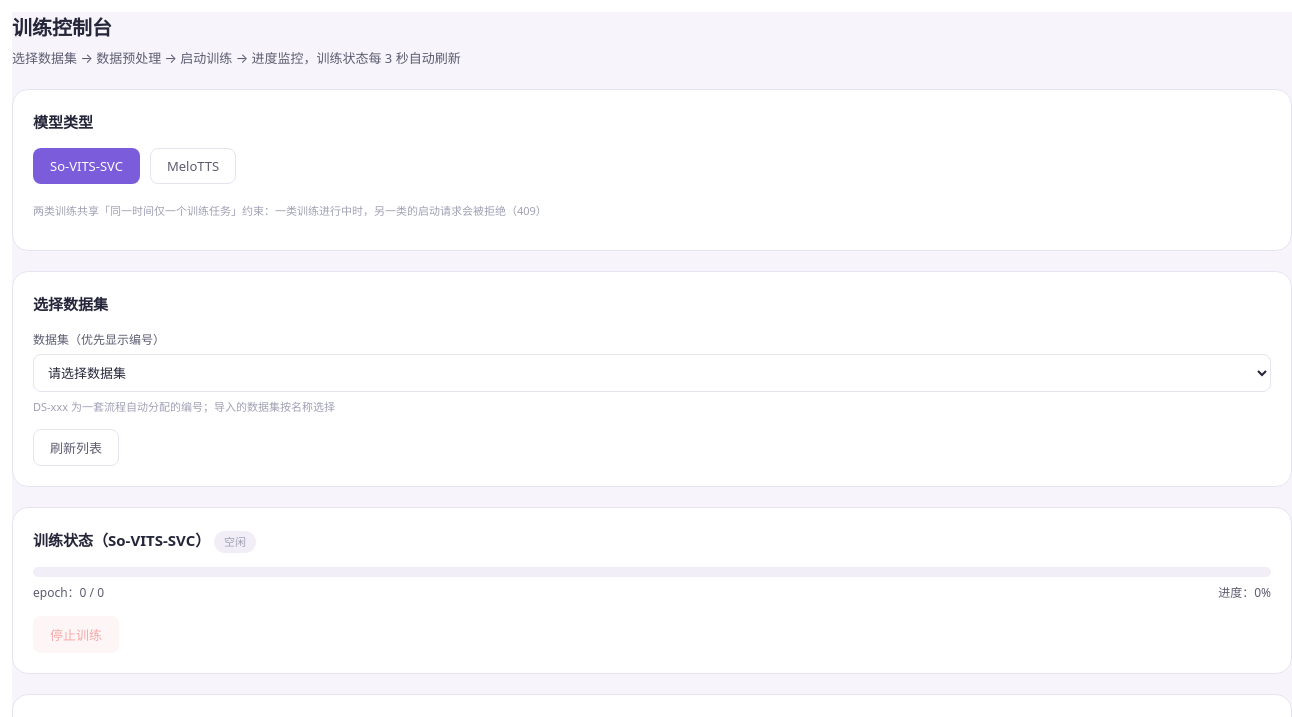
TrainPage › 展示：MeloTTS 训练中显示已用时与预计剩余（ETA）
Check: the text "空闲" is shown, box top-left (214, 531), bottom-right (256, 553)
Click the button "MeloTTS" at (193, 166), box top-left (150, 148), bottom-right (236, 184)
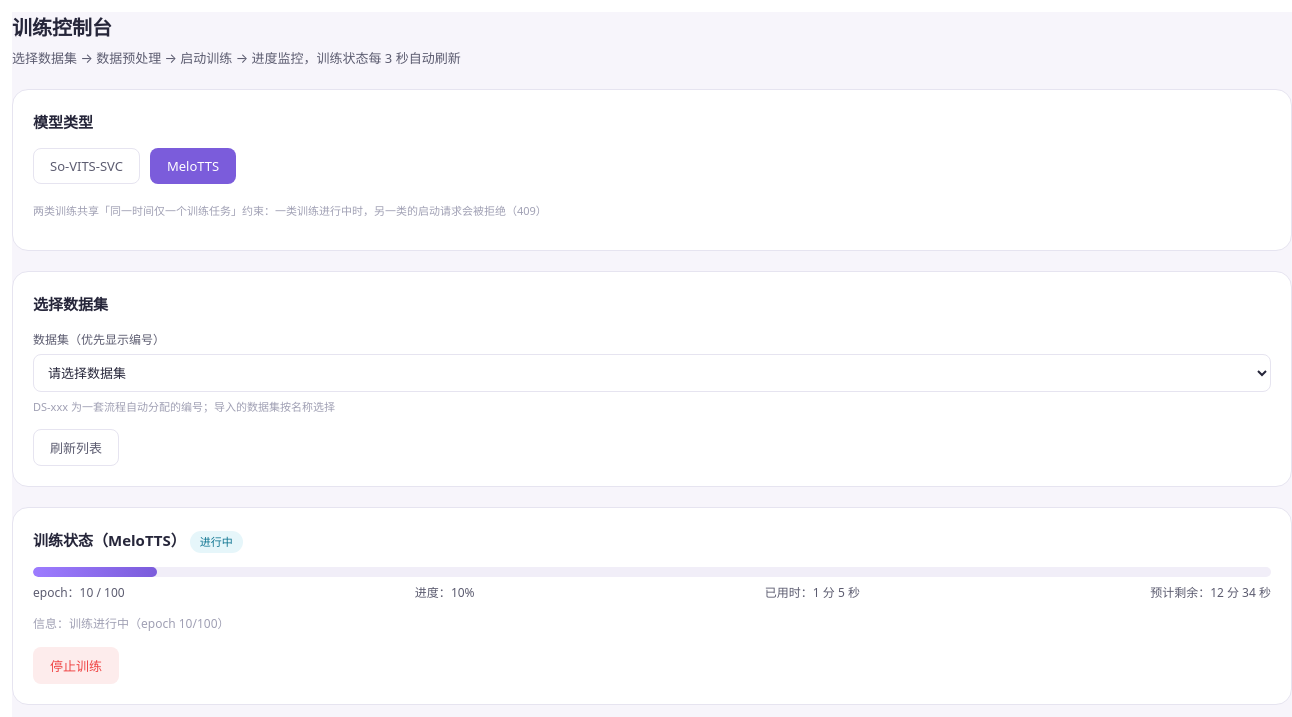
Check: the text "预计剩余：12 分 34 秒" is shown, box top-left (1150, 583), bottom-right (1271, 602)
Check: the text "已用时：1 分 5 秒" is shown, box top-left (765, 583), bottom-right (860, 602)
